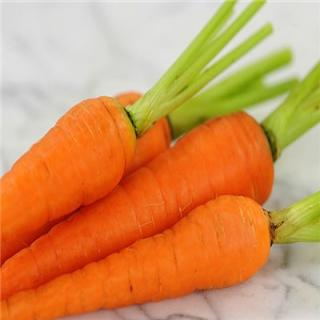Wortel: (2, 5, 320, 306)
